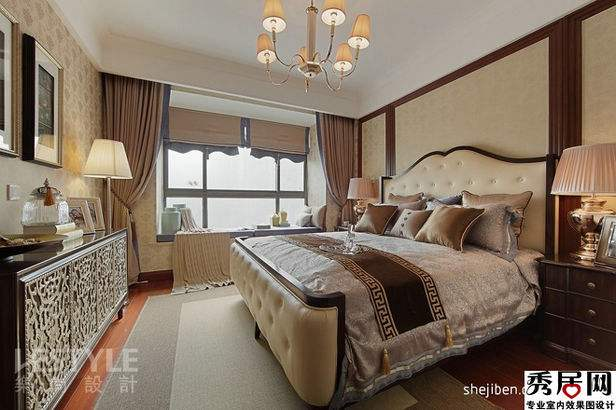床: (227, 228, 537, 389)
枕头: (353, 192, 527, 252)
灯: (252, 2, 373, 95), (551, 139, 616, 265), (81, 137, 130, 238), (341, 176, 375, 225)
